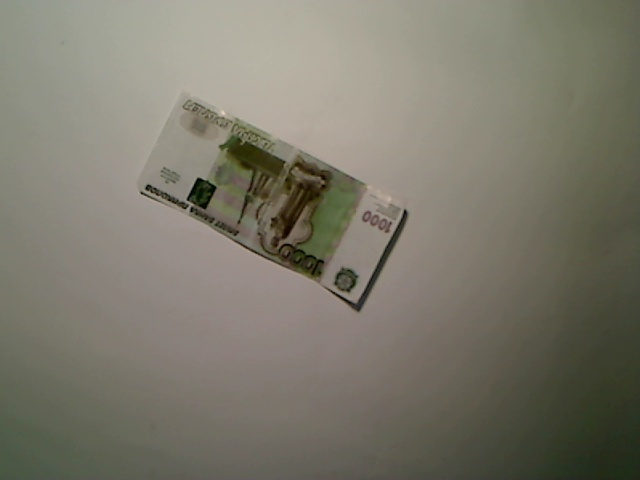banknotes: (129, 85, 414, 318)
